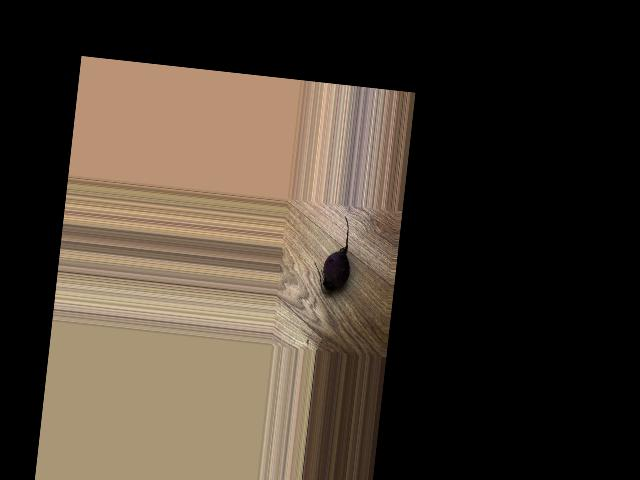beet: (311, 212, 356, 296)
